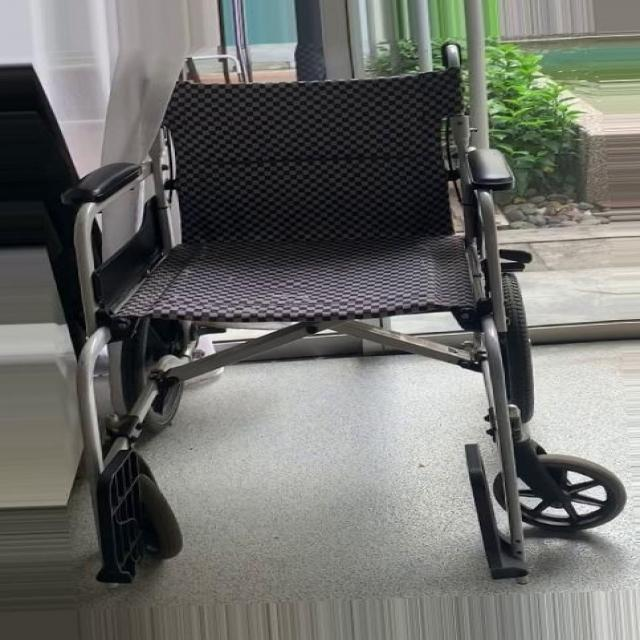wheelchair: (35, 39, 622, 586)
